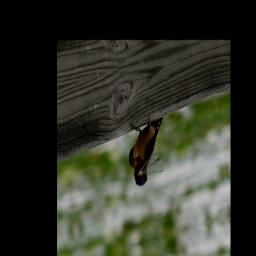Swallow: (123, 108, 172, 189)
